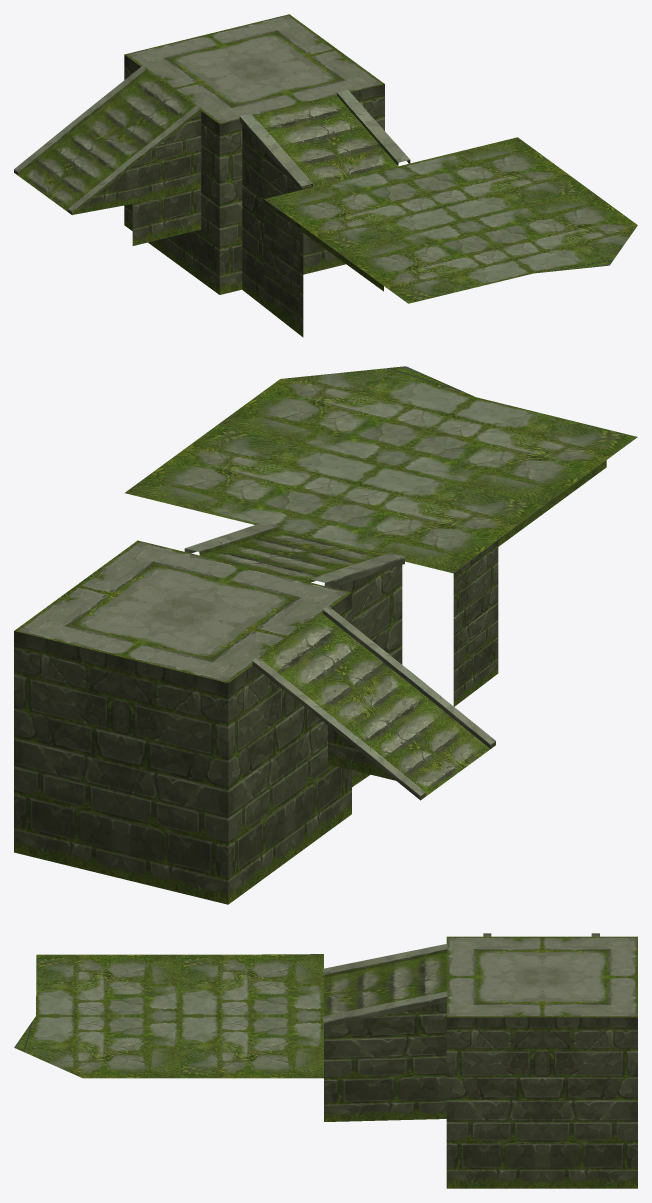
The model's file is pingtai01_01.FBX.
3 views of the same model, one above another, from view 1: azimuth 30°, elevation 25°; view 2: azimuth 150°, elevation 25°; view 3: azimuth 270°, elevation 25° (orthographic). The views are drawn at different scales.
Parts seen in each view (by area): view 1: pingtai01_01; view 2: pingtai01_01; view 3: pingtai01_01.
Boxes of the visible parts, x1,y1,x2,y2 form: pingtai01_01: (14,14,637,337); pingtai01_01: (14,366,637,904); pingtai01_01: (14,933,637,1188).
Size of the model in its own units: 1882 by 872 by 2770.
